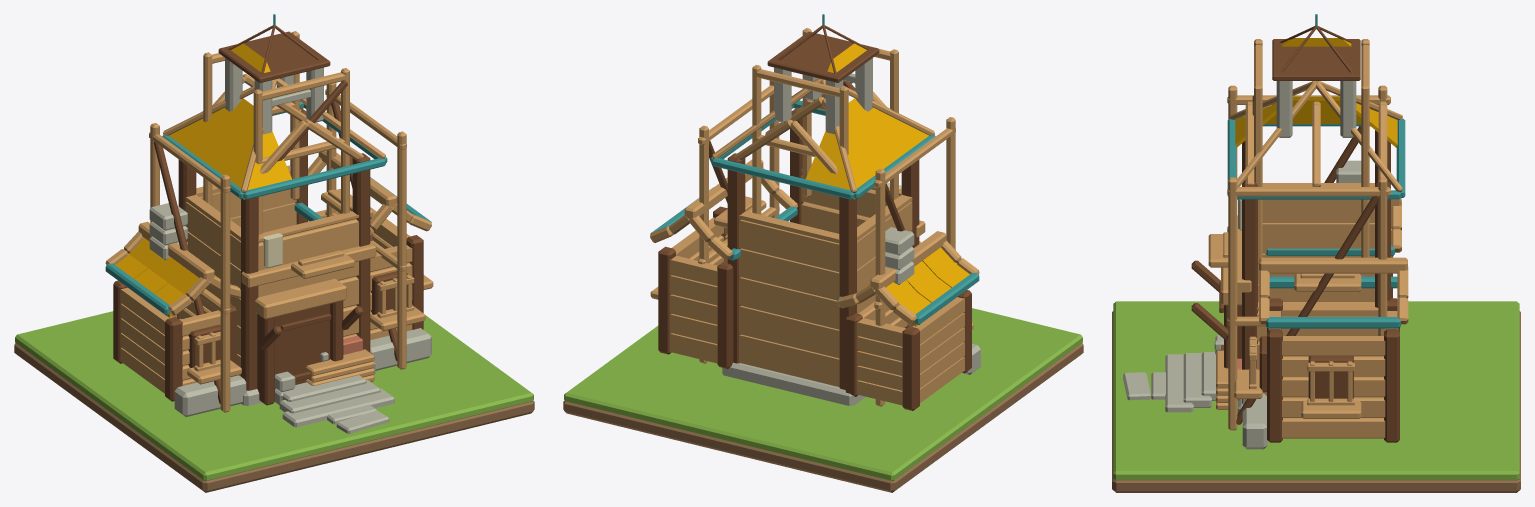
File: town_hall_l06_construction_LOD0.glb
3 renders of one model, left to right at view 1: azimuth 30°, elevation 25°; view 2: azimuth 150°, elevation 25°; view 3: azimuth 270°, elevation 25°, orthographic. The views are drawn at different scales.
Parts seen in each view (by area): view 1: town_hall_l06_construction_grass_tile, town_hall_l06_construction_earth_tile, town_hall_l06_construction_corner_reinforcement, town_hall_l06_construction_door_recess, town_hall_l06_construction_central_spire_cornice, town_hall_l06_construction_scaffold_post, town_hall_l06_construction_hip_roof_shingle.011, town_hall_l06_construction_corner_reinforcement.002, town_hall_l06_construction_wall_siding.016, town_hall_l06_construction_scaffold_post.002, town_hall_l06_construction_door_lintel, town_hall_l06_construction_stone_foundation_course (+55 smaller); view 2: town_hall_l06_construction_grass_tile, town_hall_l06_construction_earth_tile, town_hall_l06_construction_wall_siding.001, town_hall_l06_construction_wall_siding.017, town_hall_l06_construction_wall_siding.005, town_hall_l06_construction_wall_siding.009, town_hall_l06_construction_wall_siding.013, town_hall_l06_construction_central_spire_cornice, town_hall_l06_construction_hip_roof_shingle.011, town_hall_l06_construction_corner_reinforcement.001, town_hall_l06_construction_foundation, town_hall_l06_construction_corner_reinforcement.003 (+52 smaller); view 3: town_hall_l06_construction_grass_tile, town_hall_l06_construction_earth_tile, town_hall_l06_construction_central_spire_cornice, town_hall_l06_construction_wall_siding.014, town_hall_l06_construction_wall_siding.018, town_hall_l06_construction_ridge_cap.005, town_hall_l06_construction_scaffold_post.002, town_hall_l06_construction_corner_reinforcement.002, town_hall_l06_construction_annex_wall.039, town_hall_l06_construction_annex_wall.023, town_hall_l06_construction_corner_reinforcement.010, town_hall_l06_construction_corner_reinforcement.011 (+43 smaller).
Part boxes in pixels (x1=…): town_hall_l06_construction_grass_tile: x1=15, y1=311, x2=533, y2=480; town_hall_l06_construction_earth_tile: x1=14, y1=343, x2=534, y2=492; town_hall_l06_construction_corner_reinforcement: x1=241, y1=197, x2=258, y2=390; town_hall_l06_construction_door_recess: x1=275, y1=304, x2=330, y2=388; town_hall_l06_construction_central_spire_cornice: x1=218, y1=31, x2=330, y2=82; town_hall_l06_construction_scaffold_post: x1=220, y1=174, x2=230, y2=412; town_hall_l06_construction_hip_roof_shingle.011: x1=169, y1=119, x2=250, y2=199; town_hall_l06_construction_corner_reinforcement.002: x1=352, y1=153, x2=370, y2=352; town_hall_l06_construction_wall_siding.016: x1=258, y1=219, x2=358, y2=270; town_hall_l06_construction_scaffold_post.002: x1=397, y1=131, x2=406, y2=369; town_hall_l06_construction_door_lintel: x1=255, y1=278, x2=346, y2=319; town_hall_l06_construction_stone_foundation_course: x1=174, y1=375, x2=246, y2=416; town_hall_l06_construction_grass_tile: x1=564, y1=308, x2=1082, y2=480; town_hall_l06_construction_earth_tile: x1=563, y1=343, x2=1083, y2=492; town_hall_l06_construction_wall_siding.001: x1=739, y1=334, x2=839, y2=386; town_hall_l06_construction_wall_siding.017: x1=739, y1=219, x2=839, y2=272; town_hall_l06_construction_wall_siding.005: x1=739, y1=306, x2=839, y2=358; town_hall_l06_construction_wall_siding.009: x1=739, y1=277, x2=839, y2=329; town_hall_l06_construction_wall_siding.013: x1=739, y1=248, x2=839, y2=300; town_hall_l06_construction_central_spire_cornice: x1=767, y1=31, x2=879, y2=82; town_hall_l06_construction_hip_roof_shingle.011: x1=847, y1=119, x2=928, y2=199; town_hall_l06_construction_corner_reinforcement.001: x1=839, y1=197, x2=856, y2=389; town_hall_l06_construction_foundation: x1=722, y1=362, x2=865, y2=405; town_hall_l06_construction_corner_reinforcement.003: x1=727, y1=153, x2=745, y2=363; town_hall_l06_construction_grass_tile: x1=1113, y1=301, x2=1519, y2=480; town_hall_l06_construction_earth_tile: x1=1112, y1=311, x2=1520, y2=492; town_hall_l06_construction_central_spire_cornice: x1=1272, y1=39, x2=1360, y2=80; town_hall_l06_construction_wall_siding.014: x1=1262, y1=223, x2=1374, y2=253; town_hall_l06_construction_wall_siding.018: x1=1262, y1=199, x2=1374, y2=222; town_hall_l06_construction_ridge_cap.005: x1=1259, y1=257, x2=1407, y2=273; town_hall_l06_construction_scaffold_post.002: x1=1228, y1=177, x2=1237, y2=430; town_hall_l06_construction_corner_reinforcement.002: x1=1242, y1=182, x2=1257, y2=403; town_hall_l06_construction_annex_wall.039: x1=1282, y1=336, x2=1385, y2=356; town_hall_l06_construction_annex_wall.023: x1=1282, y1=418, x2=1385, y2=438; town_hall_l06_construction_corner_reinforcement.010: x1=1267, y1=329, x2=1282, y2=442; town_hall_l06_construction_corner_reinforcement.011: x1=1384, y1=329, x2=1399, y2=442.
Bounding box in the file's own units: 3.6 × 3.83 × 3.6.
